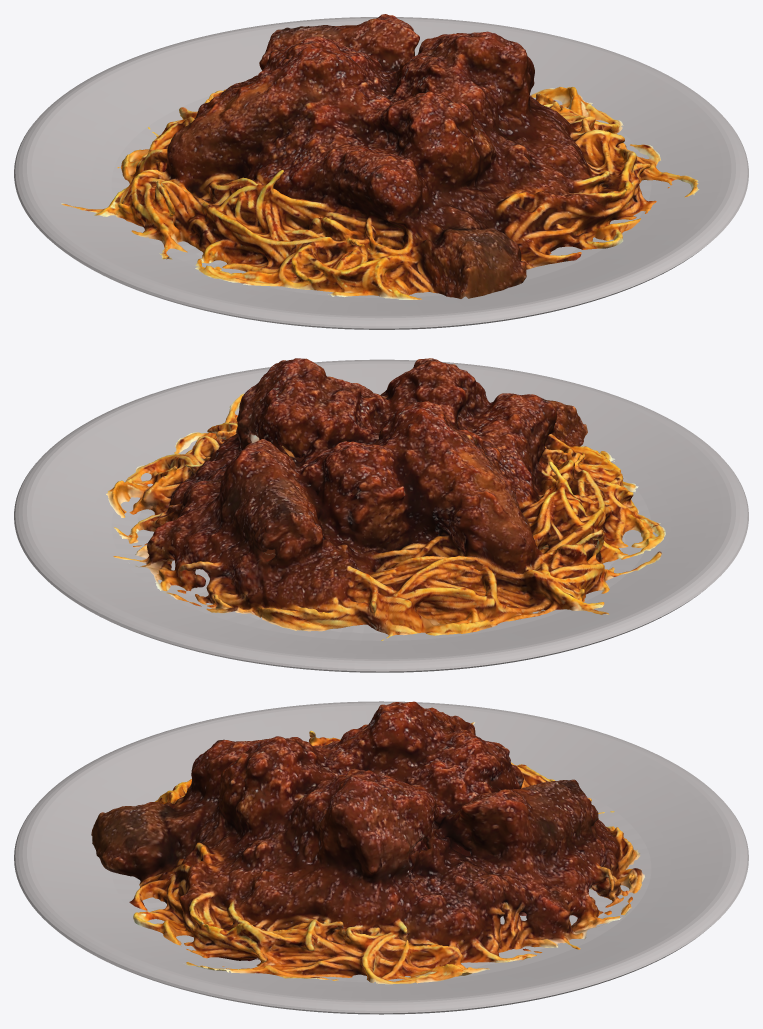
The model's file is dish3.glb.
The picture shows the model from 3 angles, top to bottom: view 1: azimuth 30°, elevation 25°; view 2: azimuth 150°, elevation 25°; view 3: azimuth 270°, elevation 25°; orthographic projection.
Parts seen in each view (by area): view 1: 3DModel_2, Circle_3; view 2: 3DModel_2, Circle_3; view 3: 3DModel_2, Circle_3.
Part boxes in pixels (x1,y1,x2,y2): 3DModel_2: (61,14,699,299); Circle_3: (14,17,748,329); 3DModel_2: (106,358,665,640); Circle_3: (14,359,748,672); 3DModel_2: (91,701,644,984); Circle_3: (14,701,748,1014).
Bounding box in the file's own units: 9.75 × 2.4 × 9.75.
Materials: 2 (1 with a texture image).
